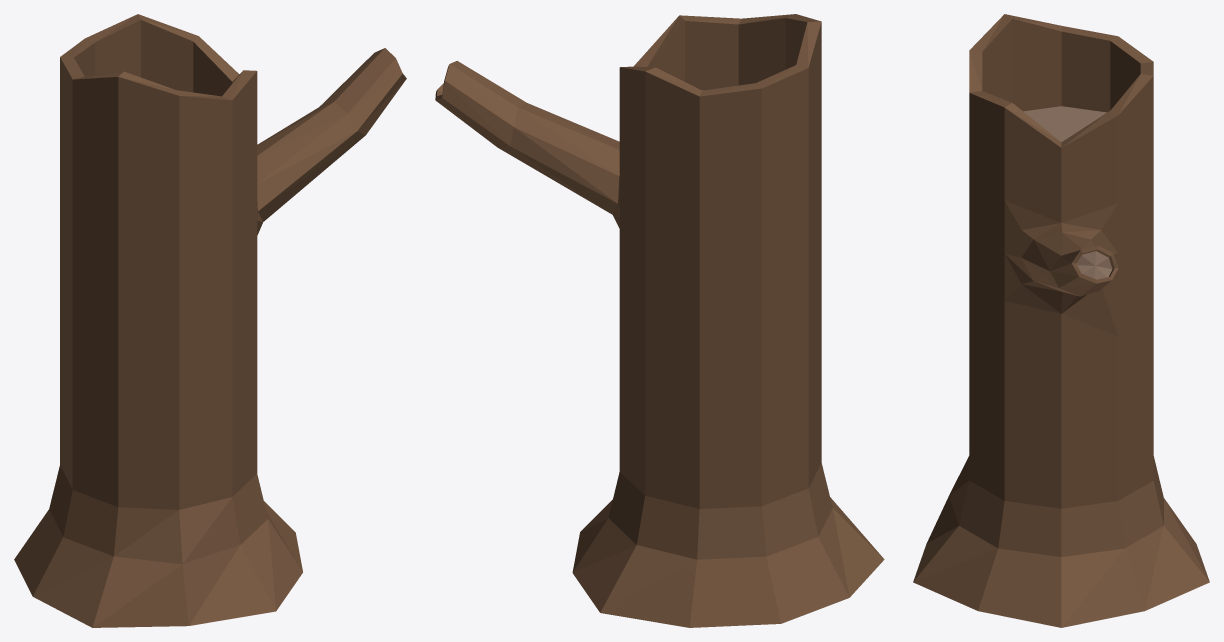
The model's file is Tree-trunk-2.fbx.
The picture shows the model from 3 angles, left to right: view 1: azimuth 30°, elevation 25°; view 2: azimuth 150°, elevation 25°; view 3: azimuth 270°, elevation 25°; orthographic projection. The views are drawn at different scales.
Parts seen in each view (by area): view 1: Tree_trunk_2; view 2: Tree_trunk_2; view 3: Tree_trunk_2.
Part boxes in pixels (box(x1,y1,x2,y2)): Tree_trunk_2: box(14, 14, 406, 627); Tree_trunk_2: box(435, 14, 884, 627); Tree_trunk_2: box(913, 14, 1209, 627).
Bounding box in the file's own units: 291 × 381 × 199.
Materials: 1 (1 with a texture image).
